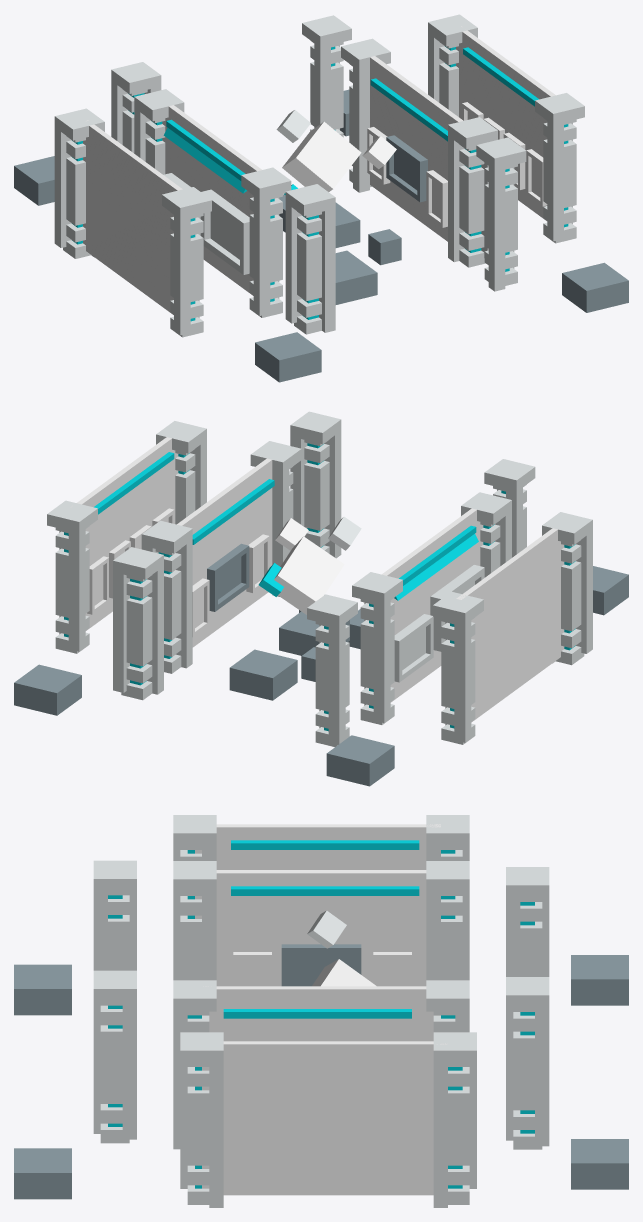
Rendered from art_gallery.fbx.
3 renders of one model, top to bottom at view 1: azimuth 30°, elevation 25°; view 2: azimuth 150°, elevation 25°; view 3: azimuth 270°, elevation 25°, orthographic. The views are drawn at different scales.
Visible parts, largest first — view 1: group985830789, group90543103, group1675820717, group1637909053, group1130891968, group1563131716, group429450211, group1638011133, group537072350, group496839335, group952710084, group394634144 (+8 smaller); view 2: group985830789, group1675820717, group90543103, group1563131716, group1130891968, group1637909053, group952710084, group1638011133, group496839335, group537072350, group1606486772, group1748019064 (+7 smaller); view 3: group1675820717, group1130891968, group90543103, group1637909053, group1563131716, group985830789, group429450211, group952710084, group141874807, group1626028686, group386737350, group155209733 (+2 smaller).
Part boxes in pixels (x1,y1,x2,y2): group985830789: [54, 108, 211, 337]; group90543103: [341, 38, 497, 267]; group1675820717: [428, 14, 584, 243]; group1637909053: [285, 137, 526, 334]; group1130891968: [134, 89, 291, 317]; group1563131716: [111, 15, 351, 153]; group429450211: [255, 262, 628, 382]; group1638011133: [367, 127, 447, 227]; group537072350: [282, 121, 361, 191]; group496839335: [163, 173, 249, 274]; group952710084: [14, 89, 349, 205]; group394634144: [335, 250, 377, 304]; group985830789: [433, 512, 592, 744]; group1675820717: [47, 421, 206, 653]; group90543103: [141, 441, 301, 673]; group1563131716: [113, 547, 357, 746]; group1130891968: [352, 492, 511, 724]; group1637909053: [290, 411, 535, 558]; group952710084: [14, 664, 394, 786]; group1638011133: [192, 534, 269, 636]; group496839335: [394, 565, 484, 682]; group537072350: [274, 536, 344, 614]; group1606486772: [229, 649, 297, 700]; group1748019064: [87, 508, 174, 614]; group1675820717: [180, 1032, 476, 1207]; group1130891968: [173, 861, 469, 986]; group90543103: [173, 980, 469, 1149]; group1637909053: [93, 860, 136, 1143]; group1563131716: [506, 867, 549, 1149]; group985830789: [173, 815, 469, 869]; group429450211: [14, 964, 71, 1199]; group952710084: [571, 955, 628, 1189]; group141874807: [233, 944, 411, 986]; group1626028686: [231, 840, 419, 849]; group386737350: [231, 886, 419, 895]; group155209733: [223, 1009, 411, 1018].
Bounding box in the file's own units: 77 × 27.26 × 85.
